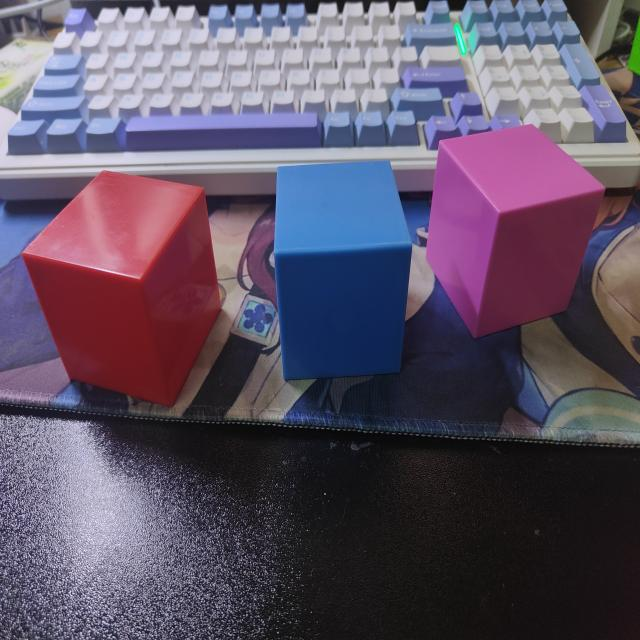blue: (272, 158, 413, 383)
pink: (425, 125, 610, 341)
red: (19, 169, 224, 405)
